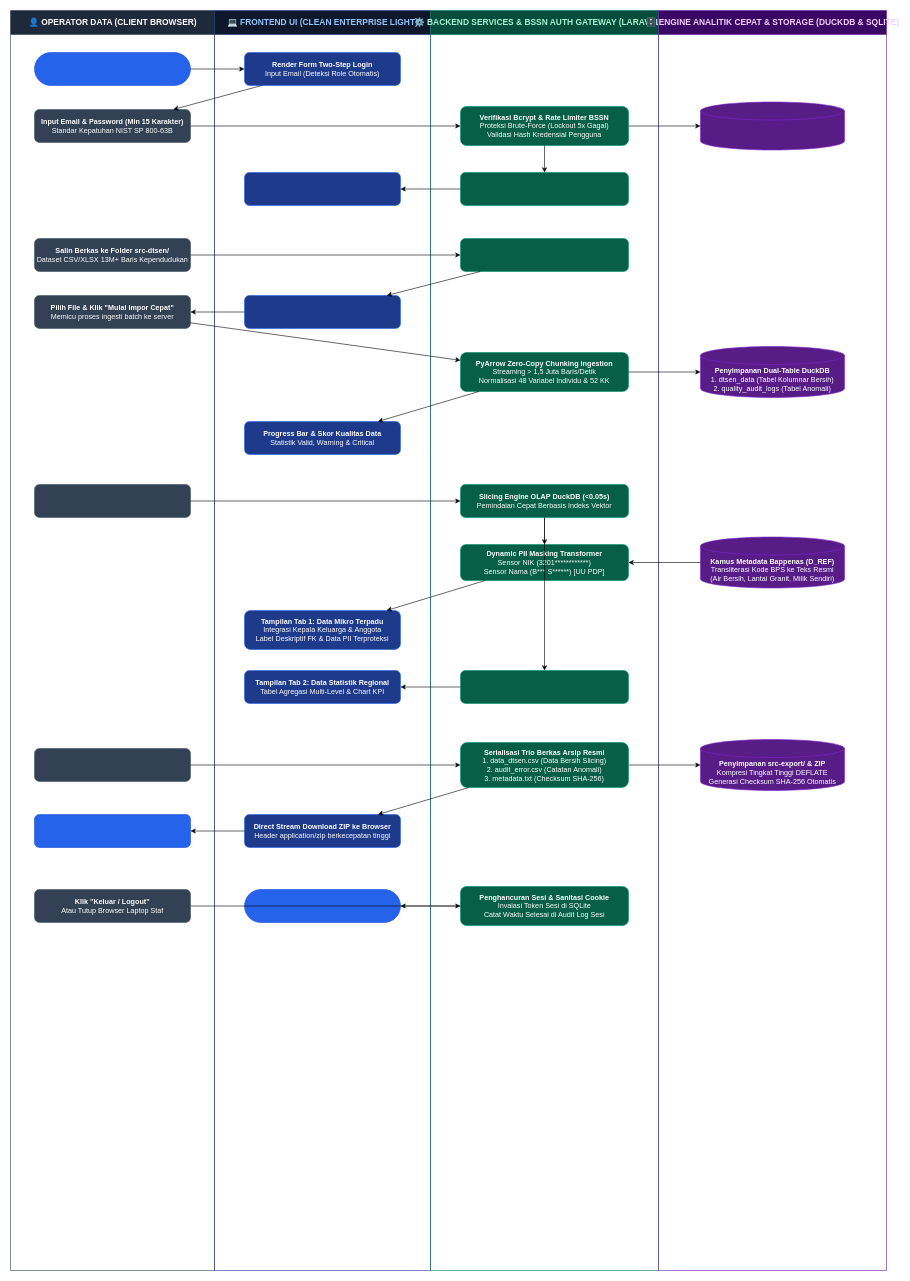
This 910x1281 diagram has some shape labels left out. Each missing label, with the centre of its shape:
Daftar Berkas Terdeteksi di Layar Tampilan Radio Card Kontras Tinggi: point (322, 311)
Kalkulasi 7 Metrik Statistik Regional COUNT, SUM, AVG, MIN, MAX, MEDIAN, MODUS: point (544, 687)
Klik "Ekspor Paket Arsip ZIP" Sesuai Hasil Slicing & Filter Aktif: point (112, 765)
Paket Berkas ZIP Diterima di Laptop Arsip Resmi Siap Kirim / Disimpan Aman: point (112, 831)
Pengecekan Tabel users (SQLite) Bcrypt cost >= 12 & Status Akun Aktif: point (772, 125)
Pilih Modul & Terapkan Filter Dinamis Filter NIK, Nama, Desil, Wilayah (Kec/Kel): point (112, 501)
Redirect ke Form Login Sesi Tertutup Sempurna Tanpa Sisa Jejak: point (322, 905)
Scan Folder src-dtsen/ Otomatis Deteksi Ukuran, Timestamp, & Format Berkas: point (544, 255)
Start: Akses URL PADU di Browser http://192.168.1.10:8000 via LAN Kantor: point (112, 69)
Tampilkan Dashboard DTSEN 2026 Clean Light Enterprise Card & Sidebar: point (322, 189)
Terbitkan Token CSRF & Sesi HttpOnly Catat Jejak Login di Audit Trail Sesi: point (544, 189)
